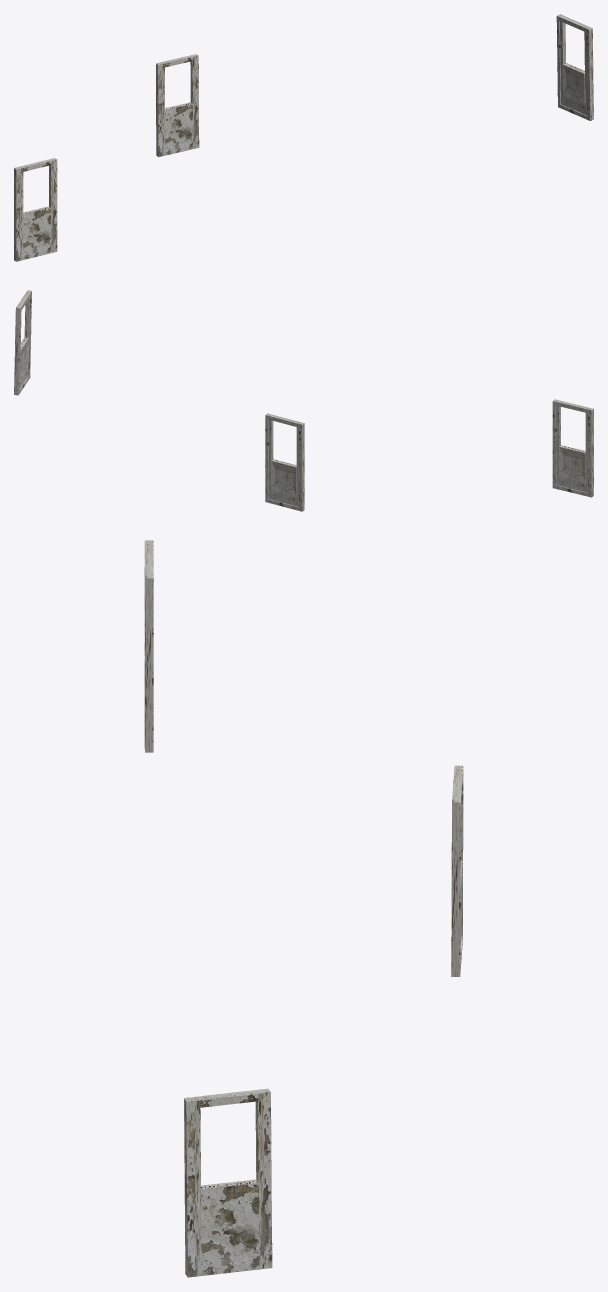
Rendered from cua.glb.
3 views of the same model, one above another, from view 1: azimuth 30°, elevation 25°; view 2: azimuth 150°, elevation 25°; view 3: azimuth 270°, elevation 25° (orthographic). The views are drawn at different scales.
Visible parts, largest first — view 1: Sphere.001_white paint_0.003, Sphere.001_white paint_0.001, Sphere.001_white paint_0.002; view 2: Sphere.001_white paint_0.003, Sphere.001_white paint_0.001, Sphere.001_white paint_0.002; view 3: Sphere.001_white paint_0.002, Sphere.001_white paint_0.001, Sphere.001_white paint_0.003.
Part boxes in pixels (x1,y1,x2,y2): Sphere.001_white paint_0.003: (14, 158, 57, 261); Sphere.001_white paint_0.001: (156, 54, 199, 156); Sphere.001_white paint_0.002: (556, 14, 593, 120); Sphere.001_white paint_0.003: (552, 399, 593, 497); Sphere.001_white paint_0.001: (265, 413, 304, 511); Sphere.001_white paint_0.002: (14, 290, 31, 395); Sphere.001_white paint_0.002: (184, 1088, 272, 1277); Sphere.001_white paint_0.001: (451, 765, 463, 976); Sphere.001_white paint_0.003: (144, 540, 153, 752).
Size of the model in its own units: 11.29 by 1.87 by 2.8.
Materials: 1 (1 with a texture image).
